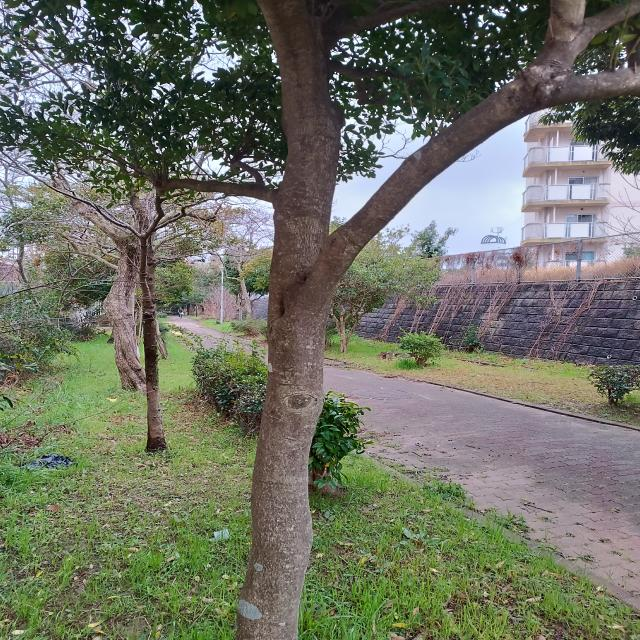Branch: (303, 22, 592, 291), (255, 0, 347, 297), (552, 67, 640, 106)
Twig: (74, 138, 276, 202), (582, 0, 640, 38), (549, 0, 586, 24)
